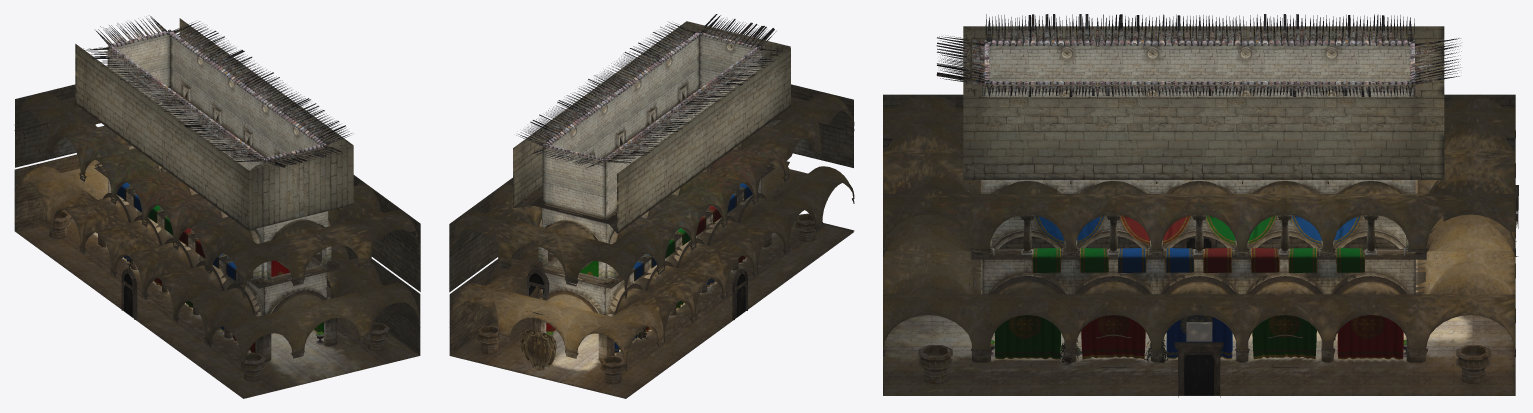
The model's file is sponza_atrium.glb.
The picture shows the model from 3 angles, left to right: view 1: azimuth 30°, elevation 25°; view 2: azimuth 150°, elevation 25°; view 3: azimuth 270°, elevation 25°; orthographic projection. The views are drawn at different scales.
Parts seen in each view (by area): view 1: bricks, ceiling, floor, roof, arch, column_c, vase, column_a, details, fabric_d; view 2: bricks, ceiling, floor, roof, arch, column_c, vase, details, Material__298, column_a, fabric_d; view 3: bricks, ceiling, floor, roof, arch, fabric_c, fabric_f, fabric_e, fabric_d, details, fabric_a, vase (+4 smaller).
Part boxes in pixels (box(x1,y1,x2,y2)): bricks: box(14, 18, 420, 355); ceiling: box(14, 59, 420, 365); floor: box(15, 217, 419, 398); roof: box(80, 15, 351, 167); arch: box(94, 56, 340, 316); column_c: box(14, 125, 420, 370); vase: box(45, 211, 389, 381); column_a: box(98, 234, 337, 362); details: box(94, 124, 137, 319); fabric_d: box(116, 182, 236, 280); bricks: box(449, 21, 854, 355); ceiling: box(450, 44, 854, 365); floor: box(450, 221, 854, 398); roof: box(516, 14, 788, 168); arch: box(530, 42, 774, 316); column_c: box(449, 125, 854, 370); vase: box(476, 213, 816, 384); details: box(526, 268, 747, 319); Material__298: box(520, 330, 556, 370); column_a: box(533, 234, 771, 360); fabric_d: box(632, 183, 752, 281); bricks: box(883, 26, 1515, 394); ceiling: box(883, 50, 1515, 349); floor: box(883, 315, 1515, 395); roof: box(936, 14, 1461, 97); arch: box(971, 47, 1426, 294); fabric_c: box(1081, 315, 1403, 359); fabric_f: box(995, 315, 1316, 359); fabric_e: box(1032, 215, 1364, 272); fabric_d: box(1034, 215, 1361, 272); details: box(1100, 185, 1518, 397); fabric_a: box(1120, 215, 1279, 272); vase: box(918, 345, 1490, 383).
Size of what is drawn, in the model's own units: 12.57 by 13.55 by 27.44.
25 materials, 24 textured.
